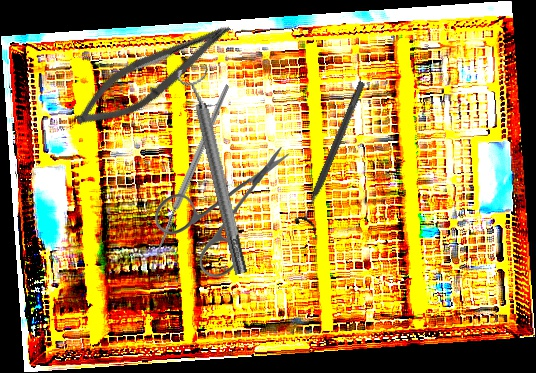Fixation Ring: (175, 63, 257, 278), (292, 77, 374, 232)
Hook Surgical: (89, 83, 296, 278)
Iris Scissors: (153, 144, 290, 279)
Micro Scissor: (67, 4, 239, 143)
